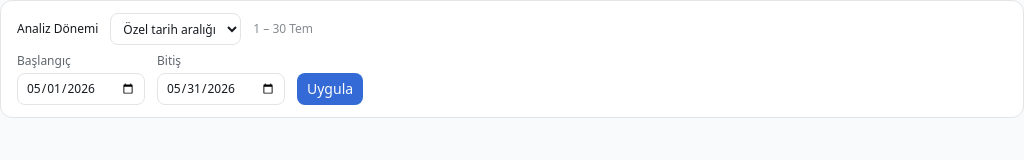
Test: analiz dönemi seçicisi › boş bırakılan tarih de geçersizdir
Clear the date field labelled "Bitiş" at (221, 89), box x1=157 y1=73 x2=285 y2=105
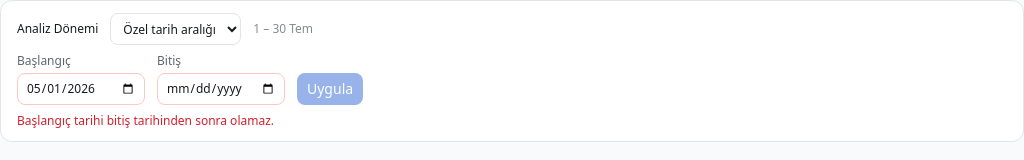
Check: the message "Başlangıç tarihi bitiş tarihinden sonra olamaz." is shown, box x1=17 y1=112 x2=274 y2=129
Check: the button "Uygula" is disabled, box x1=297 y1=73 x2=363 y2=105
